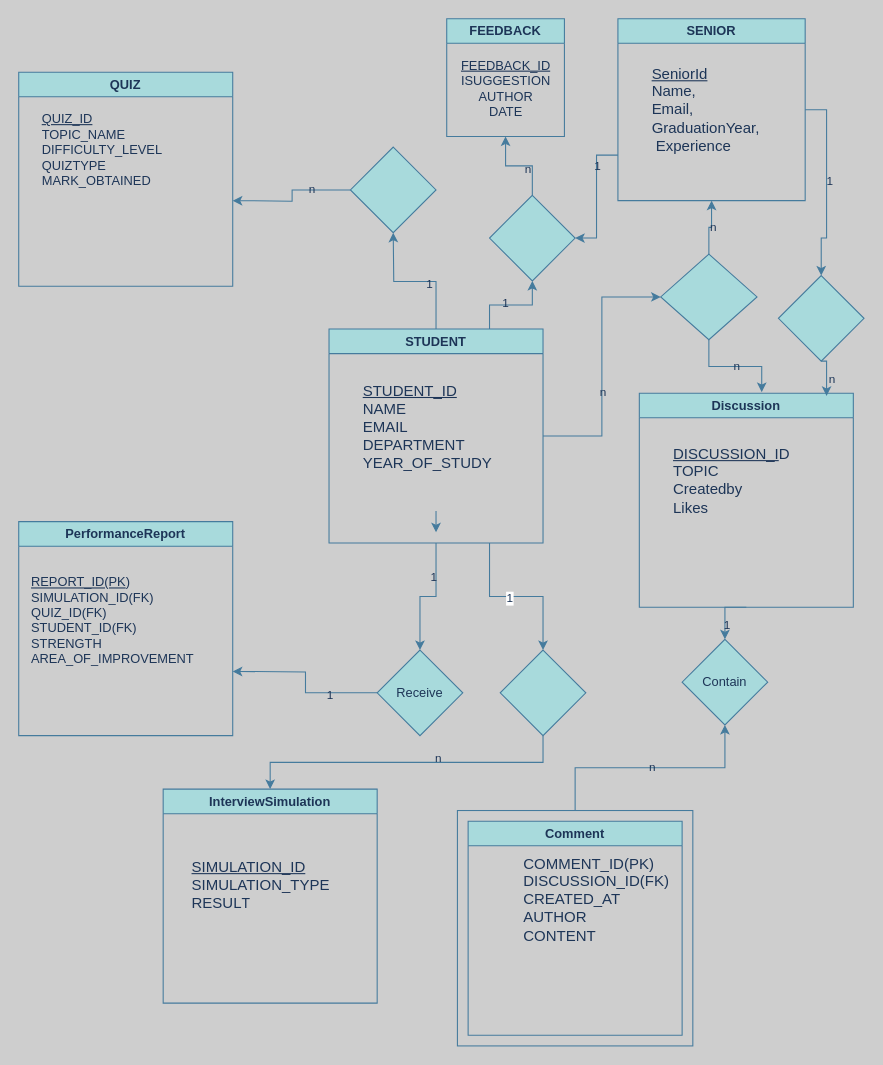
Some shapes in this 883 by 1065 pixel diagram are drawn without their labels. The shapes that lost their labels are listed below. From the top down, each one's box as (x1, y1, x2, y2) in pixels, then its label:
(349, 146, 436, 233): Takes
(488, 194, 575, 281): Generate
(660, 253, 757, 340): Engages IN
(777, 274, 864, 361): Posts
(499, 649, 586, 736): Participate In
